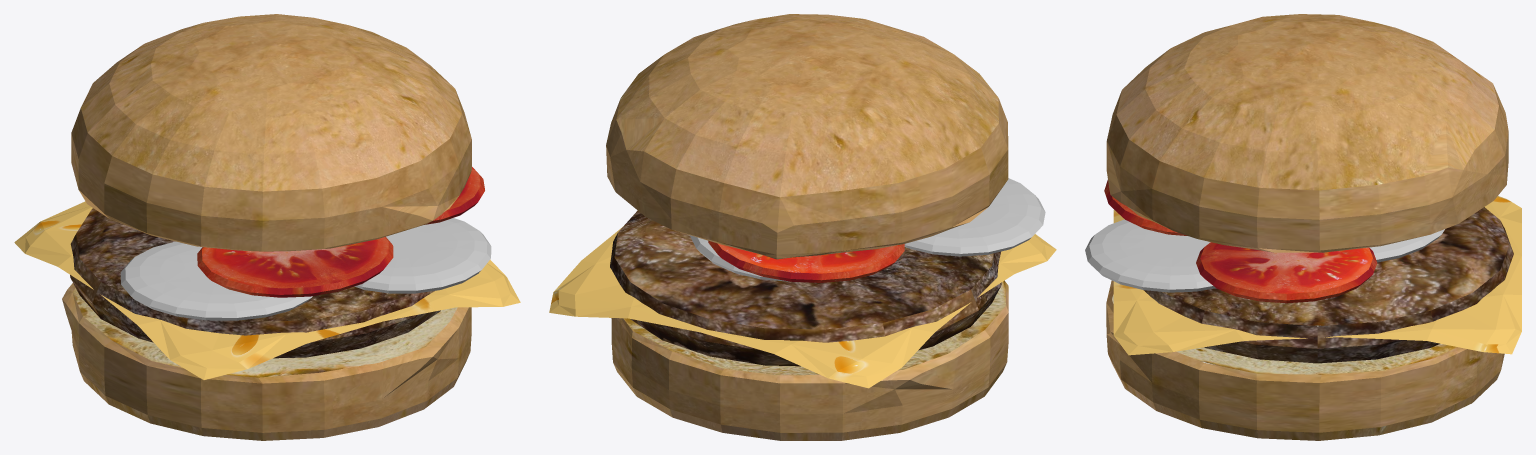
File: burger.dae
The picture shows the model from 3 angles, left to right: view 1: azimuth 30°, elevation 25°; view 2: azimuth 150°, elevation 25°; view 3: azimuth 270°, elevation 25°; orthographic projection.
Parts seen in each view (by area): view 1: Osy; view 2: Osy; view 3: Osy.
Boxes of the visible parts, left/top/right/bottom form: Osy: left=14, top=14, right=520, bottom=440; Osy: left=549, top=14, right=1056, bottom=440; Osy: left=1085, top=14, right=1521, bottom=440.
Size of the model in its own units: 1.94 by 1.96 by 1.58.
